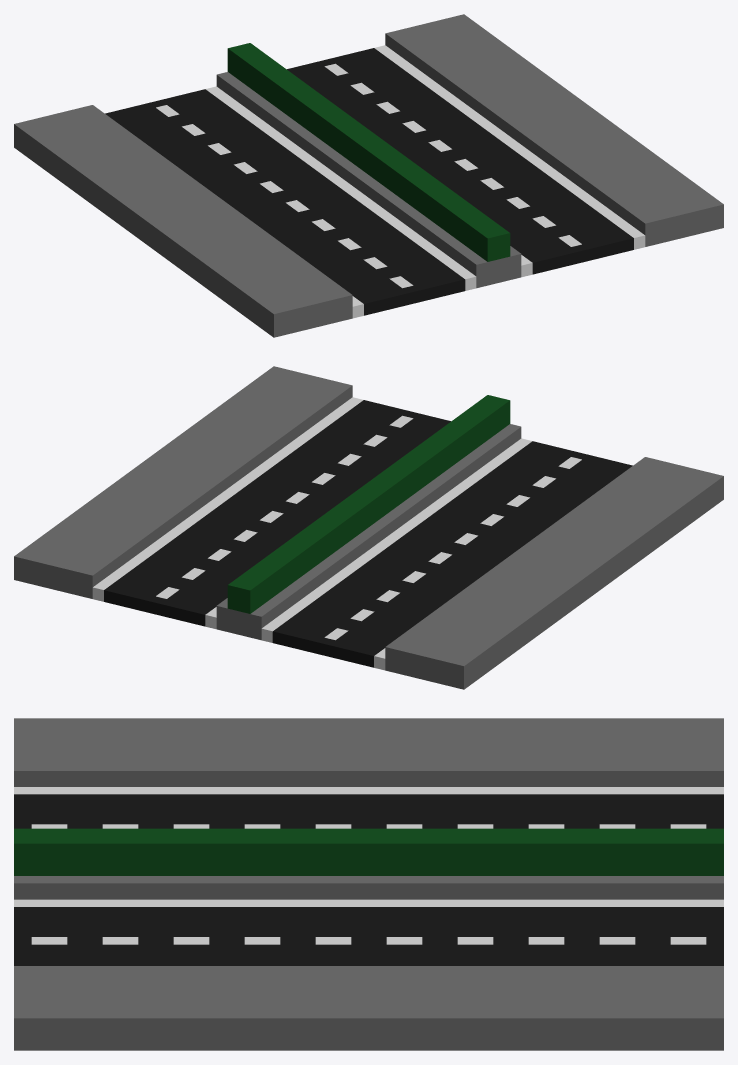
Rendered from RoadStraight01.fbx.
The picture shows the model from 3 angles, top to bottom: view 1: azimuth 30°, elevation 25°; view 2: azimuth 150°, elevation 25°; view 3: azimuth 270°, elevation 25°; orthographic projection. The views are drawn at different scales.
Parts seen in each view (by area): view 1: ObjObject.002; view 2: ObjObject.002; view 3: ObjObject.002.
Boxes of the visible parts, x1,y1,x2,y2 form: ObjObject.002: (14,14,723,337); ObjObject.002: (14,366,723,689); ObjObject.002: (14,718,723,1050).
Size of the model in its own units: 400 by 400 by 40.
Materials: 1 (1 with a texture image).
